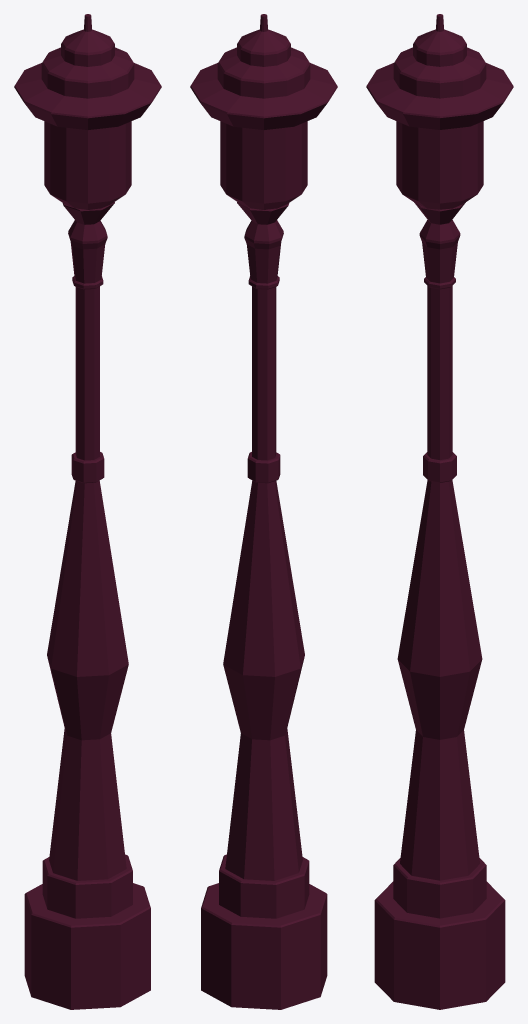
Rendered from Lamp4.obj.
The picture shows the model from 3 angles, left to right: view 1: azimuth 30°, elevation 25°; view 2: azimuth 150°, elevation 25°; view 3: azimuth 270°, elevation 25°; orthographic projection.
Parts seen in each view (by area): view 1: 4_low; view 2: 4_low; view 3: 4_low.
Boxes of the visible parts, x1,y1,x2,y2 form: 4_low: (14, 14, 161, 1009); 4_low: (190, 14, 337, 1009); 4_low: (366, 14, 513, 1009).
Size of the model in its own units: 0.4588 by 3.31 by 0.4588.
